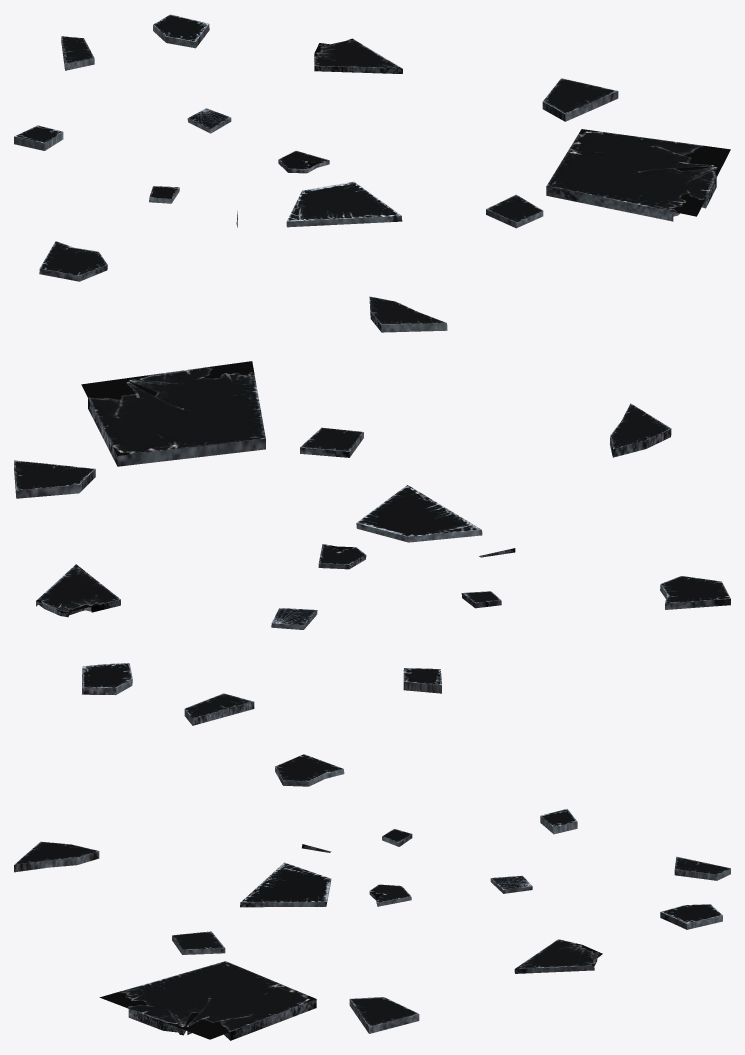
File: brokenglass_pile02_lod0.glb
3 views of the same model, one above another, from view 1: azimuth 30°, elevation 25°; view 2: azimuth 150°, elevation 25°; view 3: azimuth 270°, elevation 25° (orthographic). The views are drawn at different scales.
Parts seen in each view (by area): view 1: surf0; view 2: surf0; view 3: surf0.
Boxes of the visible parts, bbox=[...] form: surf0: bbox=[14, 14, 730, 332]; surf0: bbox=[14, 361, 730, 725]; surf0: bbox=[14, 754, 730, 1040].
Size of the model in its own units: 51.04 by 0.9041 by 54.03.
